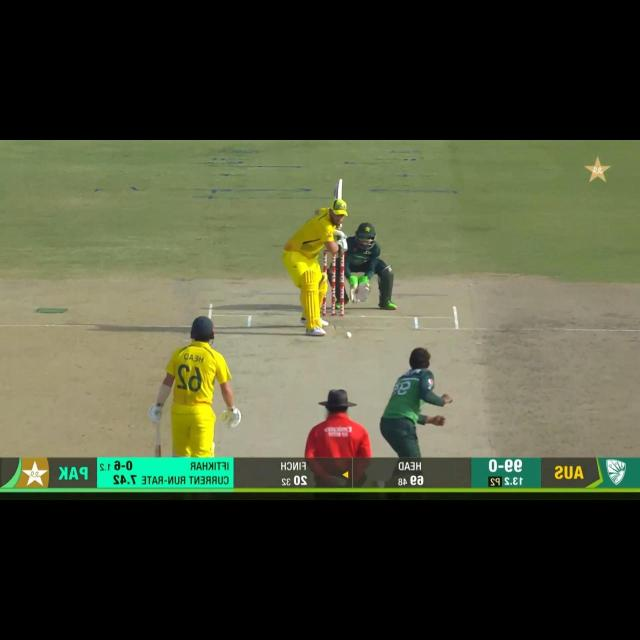bat: (334, 177, 344, 202), (152, 439, 163, 456)
toe: (334, 177, 344, 186)
